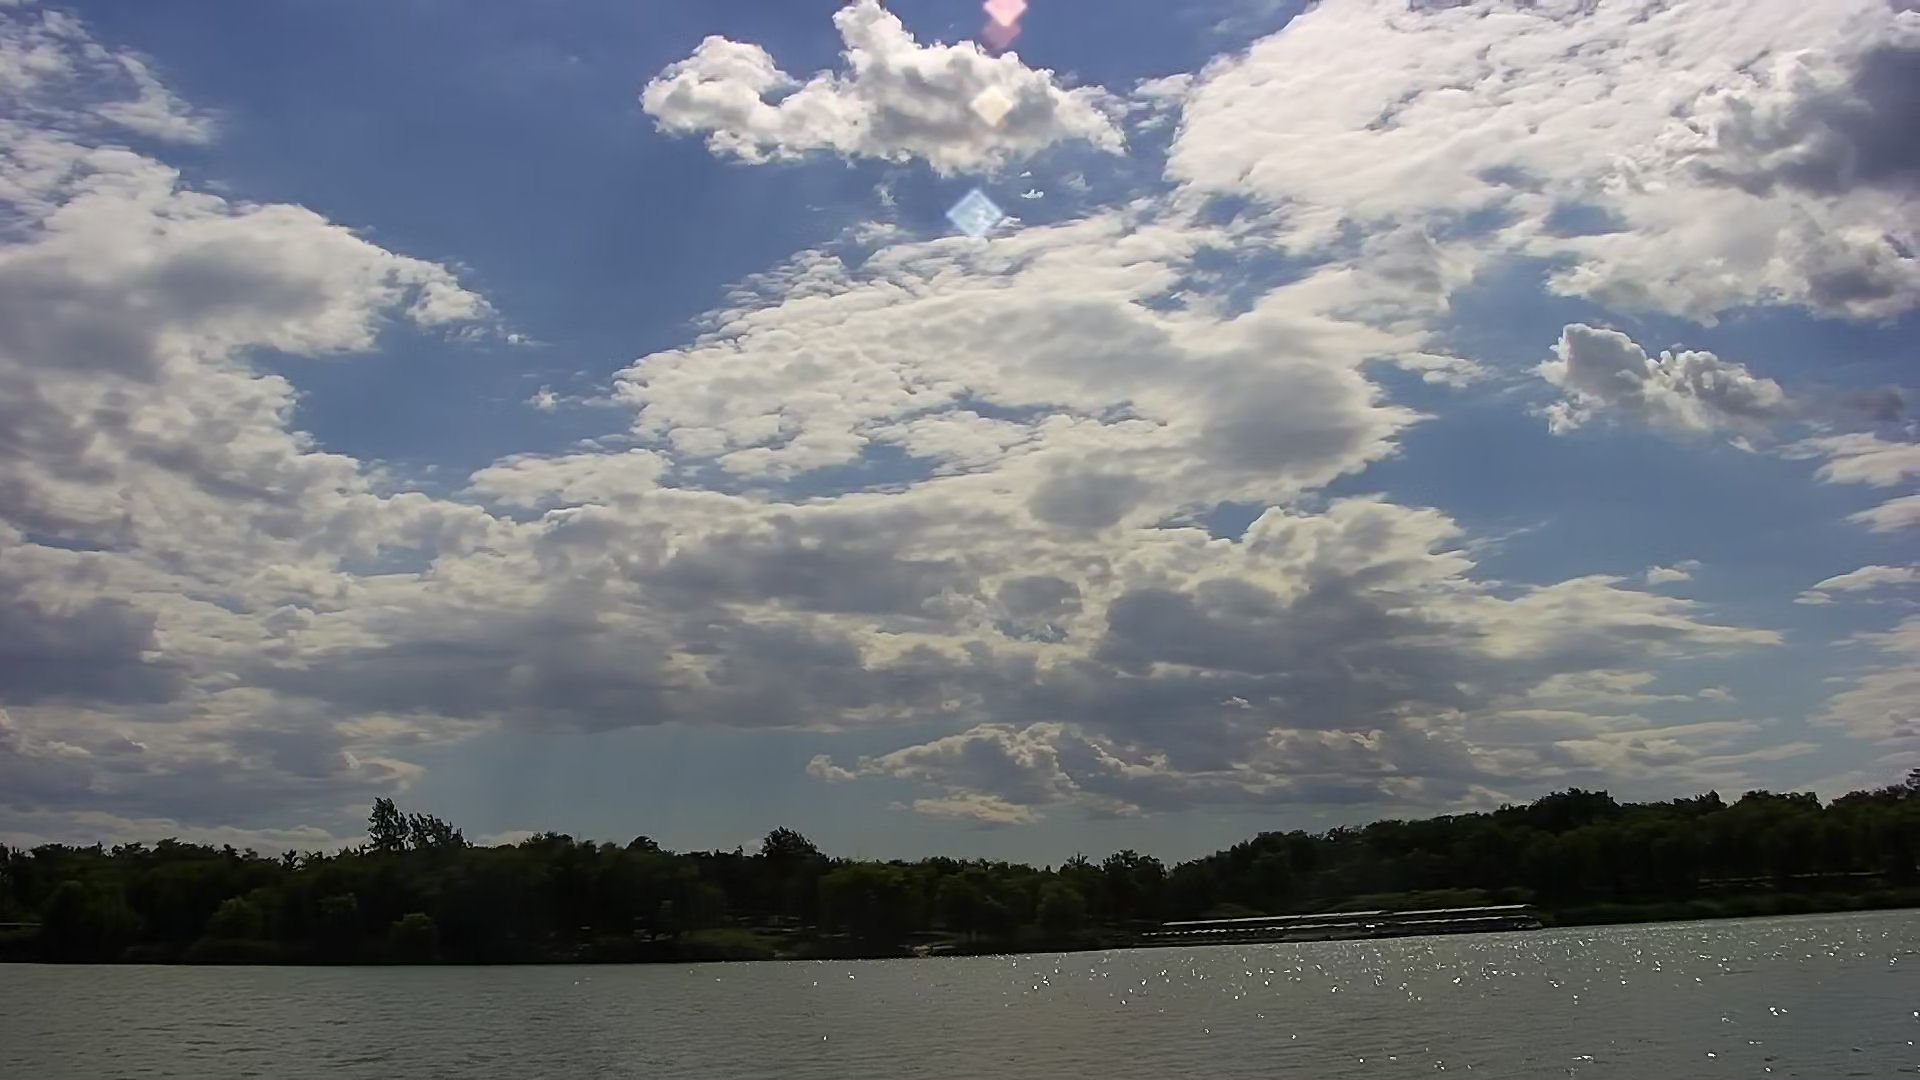harbor: (1133, 886, 1563, 964)
